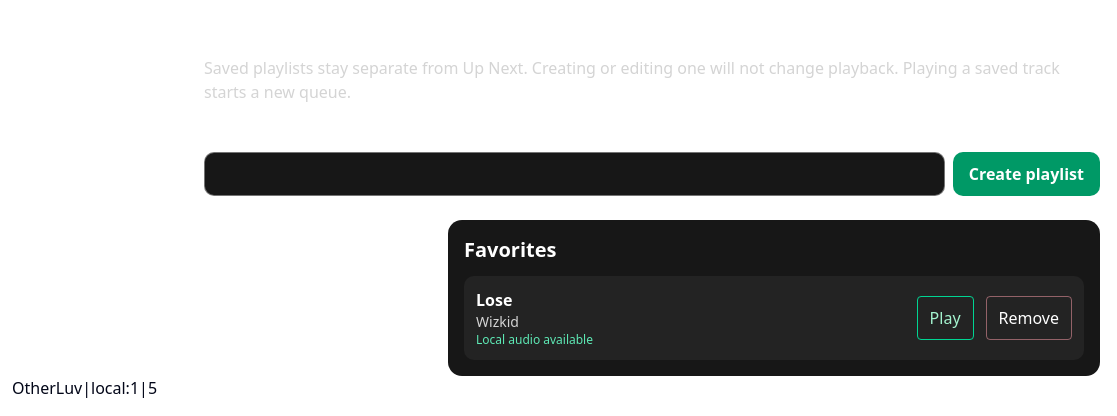
saved playlist UI › plays a saved local track through the shared player and keeps it on route change
Step 1. Click the button with aria-label "Play Lose from Wizkid" → (945, 318), box 917,296 -> 974,340
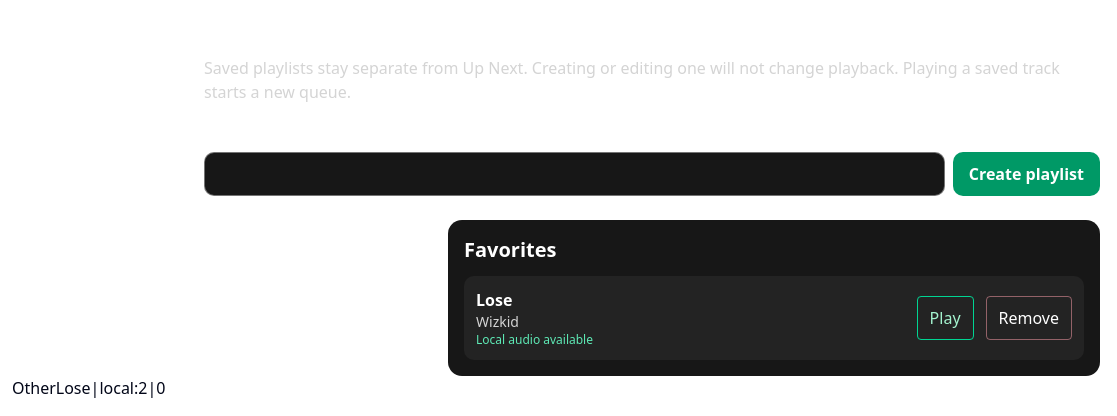
Now the text with test id "player-readout" shows "Lose|local:2", box 56,377 -> 91,399
Step 2. Click the link "Other" → (34, 388), box 12,377 -> 56,399
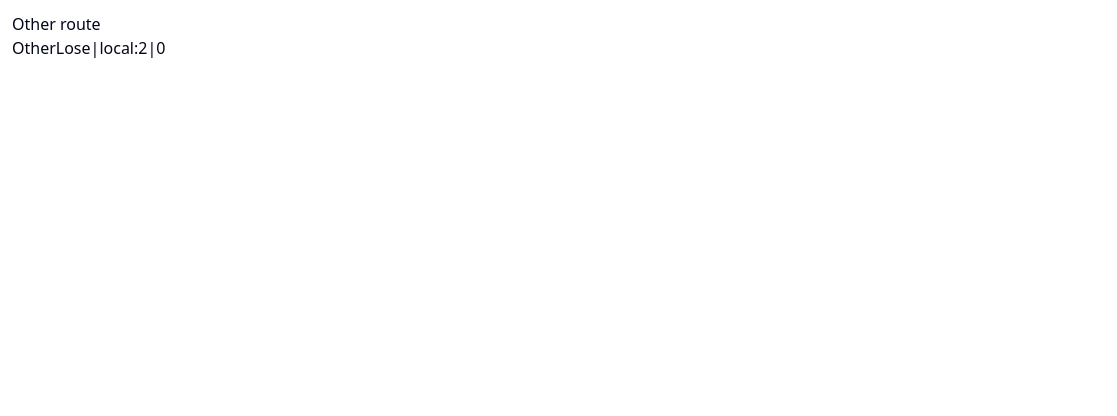
Now the text with test id "player-readout" shows "Lose|local:2", box 56,37 -> 91,59
Now the text "Other route" is shown, box 12,13 -> 101,35
